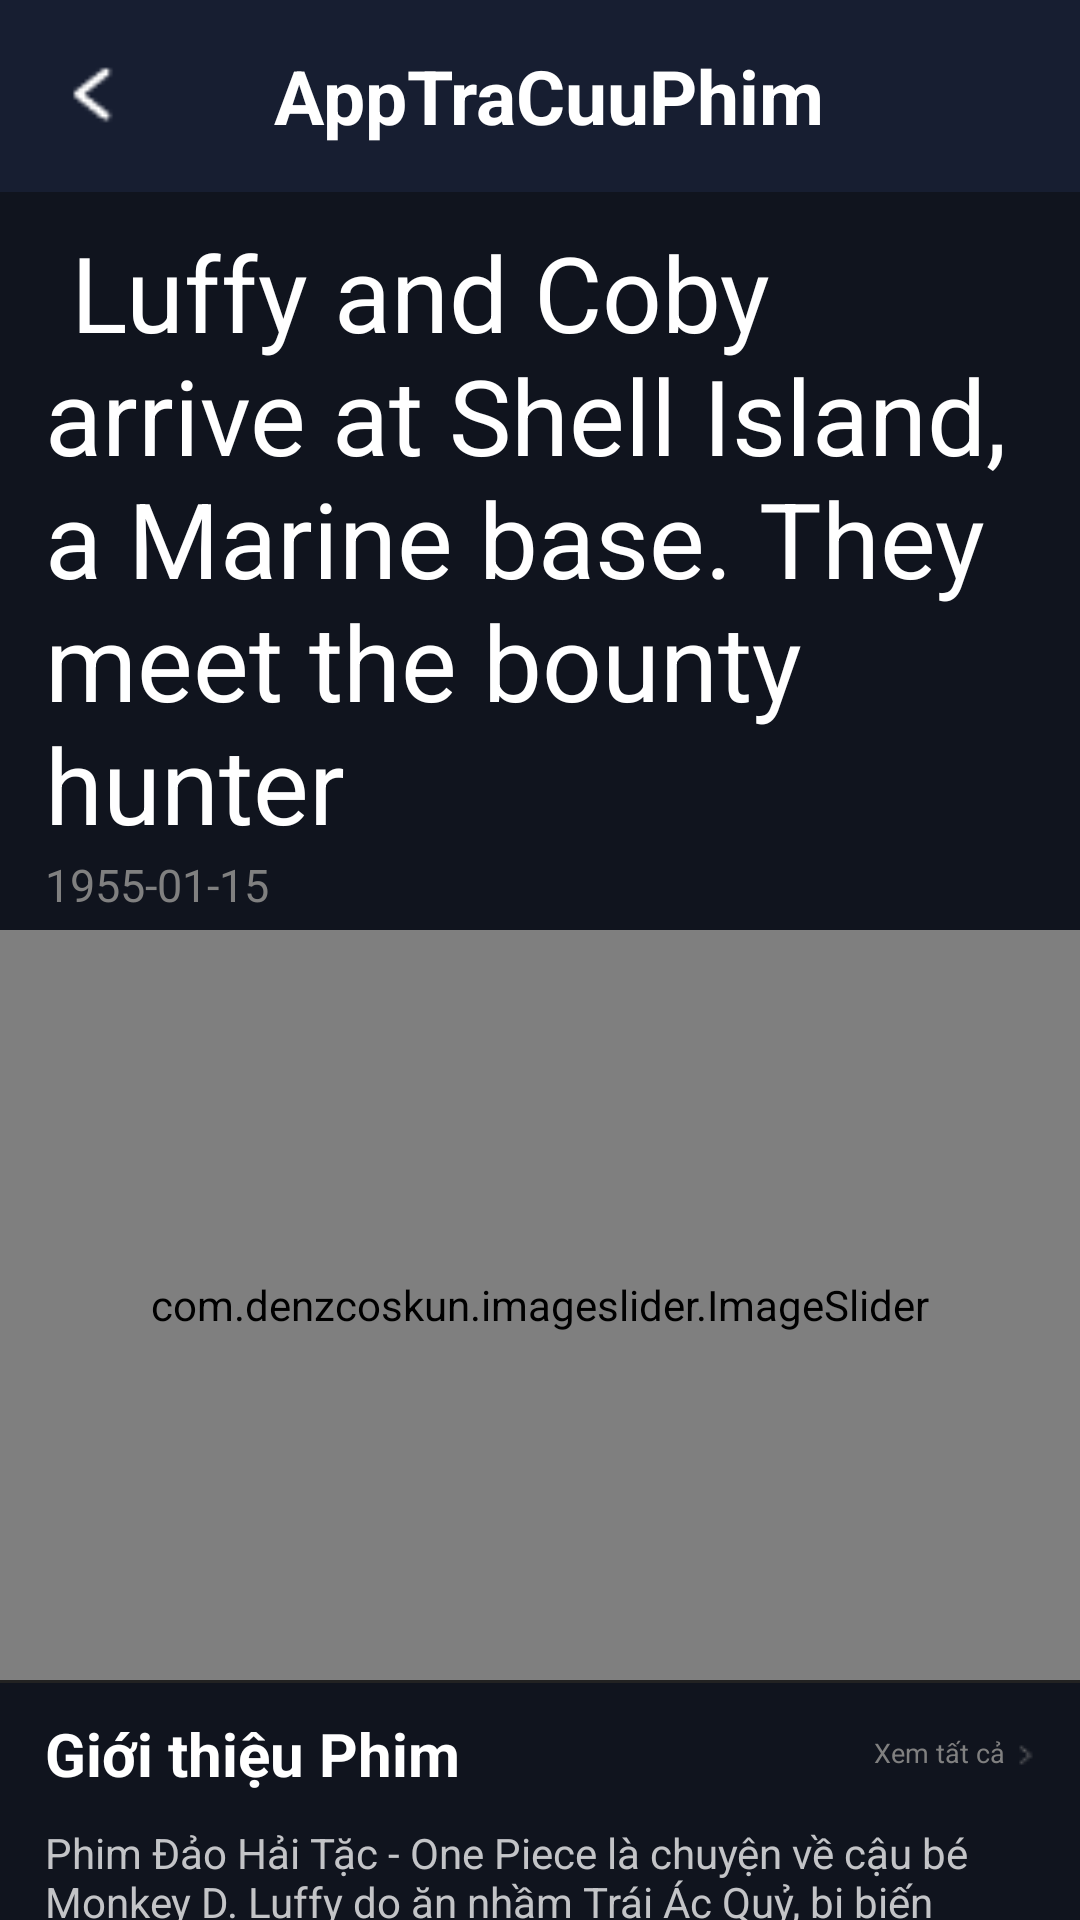

Screen size 1080*1920. Icon name, then its box in pixels as (x1, y1, x2, y2):
arrow left: (73, 67, 112, 122)
